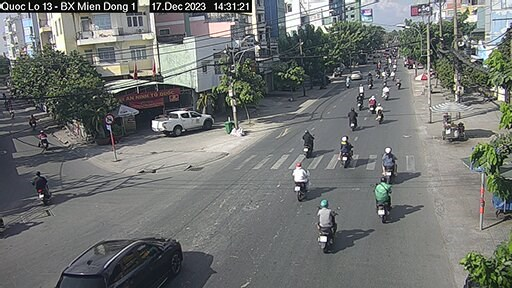car: (69, 235, 186, 288), (151, 110, 214, 136)
motorbike: (315, 199, 337, 255), (373, 175, 392, 221), (292, 162, 310, 201), (338, 133, 355, 174), (379, 145, 398, 181), (302, 128, 317, 160), (349, 108, 360, 131), (375, 109, 385, 122)
